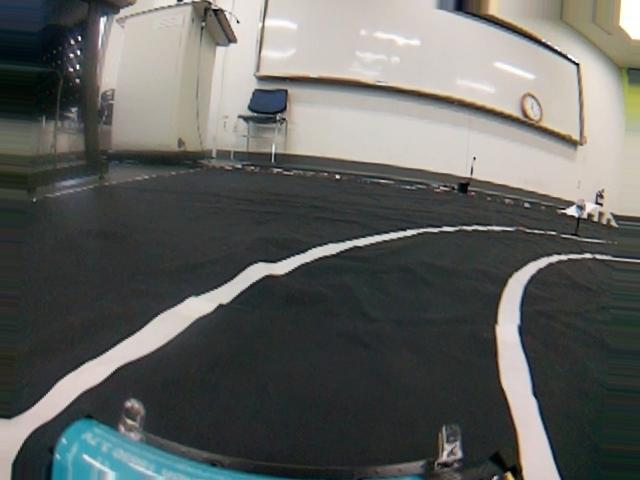right: (7, 220, 640, 480)
